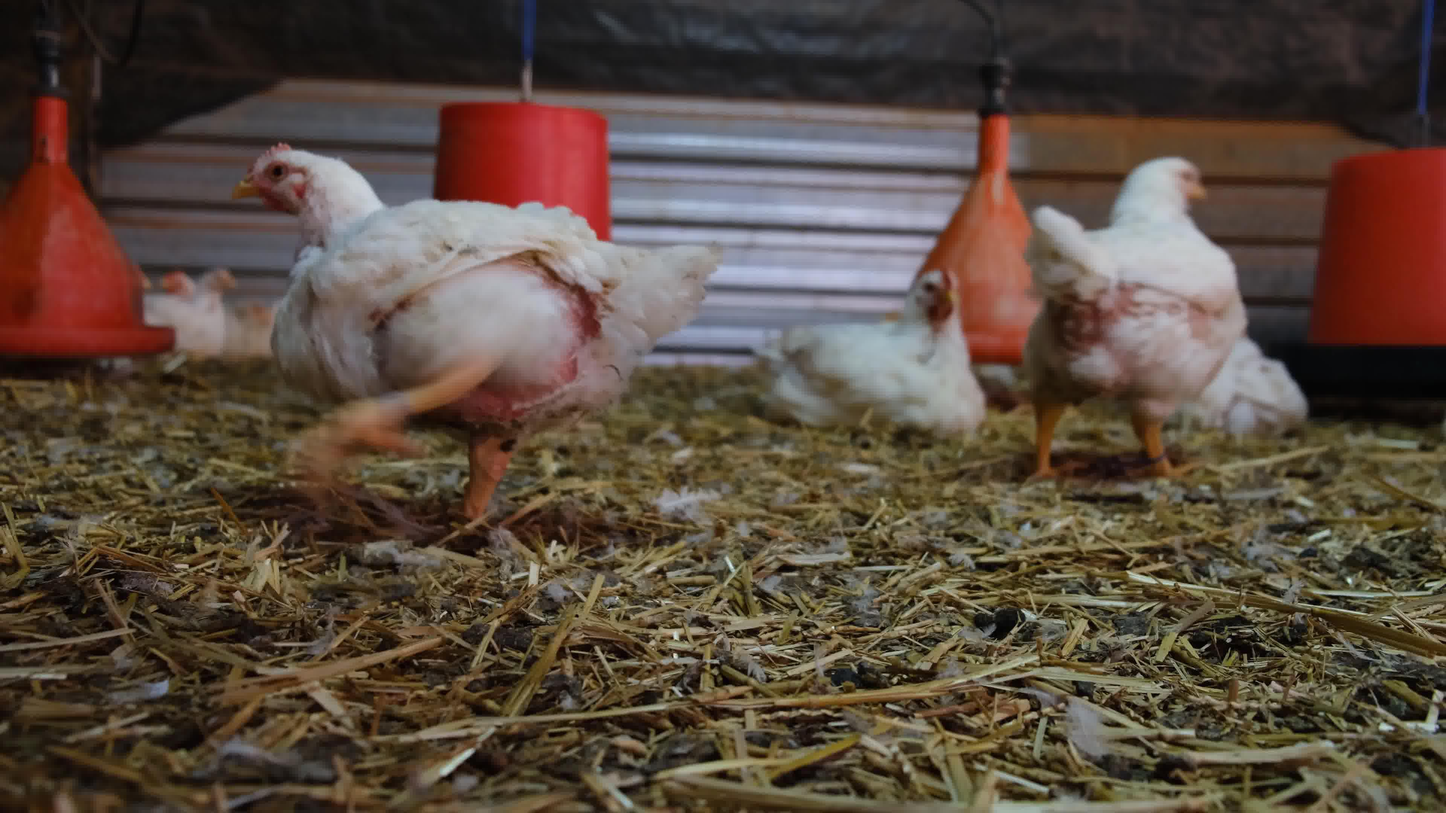AbNormal: (745, 268, 991, 443), (1173, 309, 1313, 433)
Normal: (230, 140, 725, 544), (997, 153, 1249, 488), (161, 270, 287, 362), (131, 264, 238, 371)
